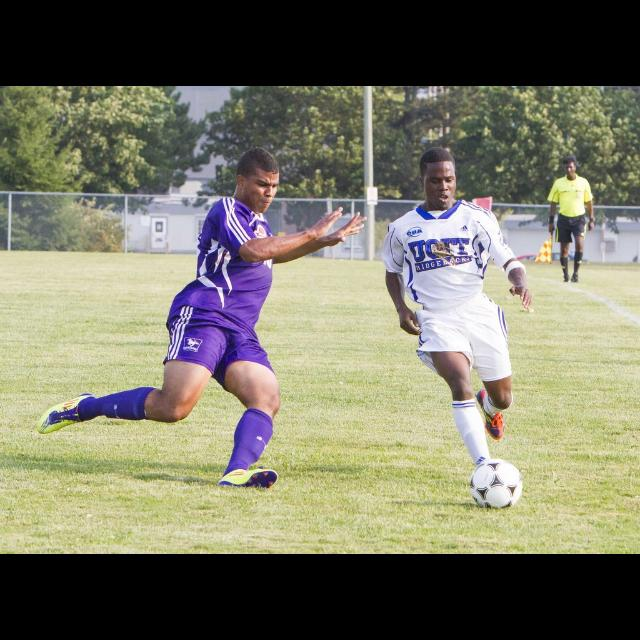Football: (466, 459, 520, 507)
